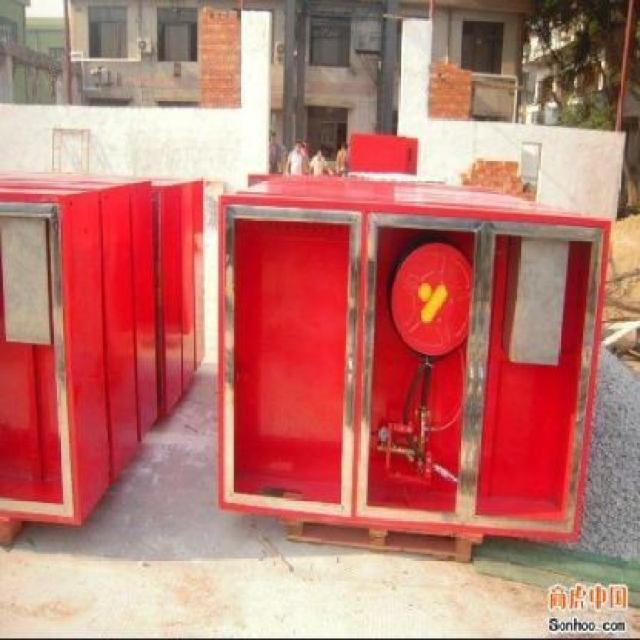firehydrant: (216, 166, 616, 570), (0, 171, 208, 552), (346, 128, 422, 180)
